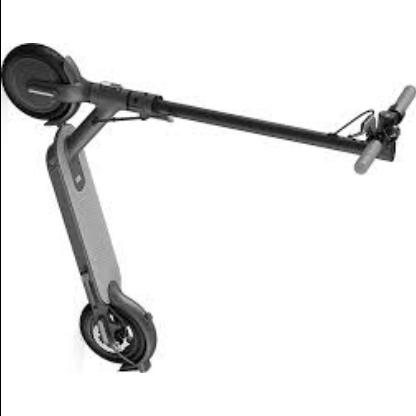bike: (3, 42, 409, 374)
